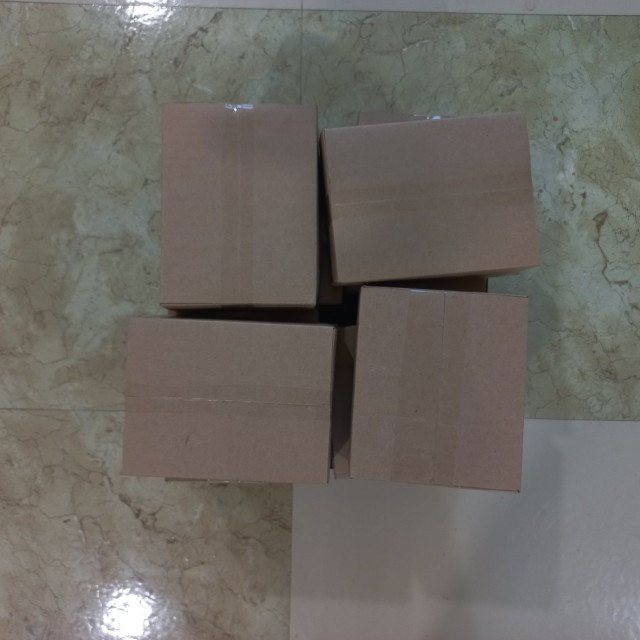box: (341, 282, 532, 502), (316, 106, 542, 287), (114, 312, 341, 490), (155, 92, 325, 315), (153, 354, 322, 533), (162, 144, 301, 356), (307, 153, 471, 326), (319, 326, 444, 543)
